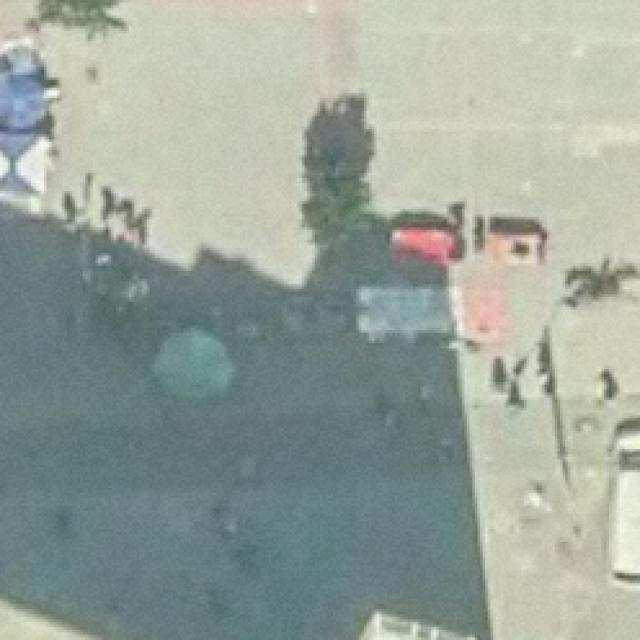vendedor_ambulante: (148, 328, 238, 408), (0, 70, 52, 130)
